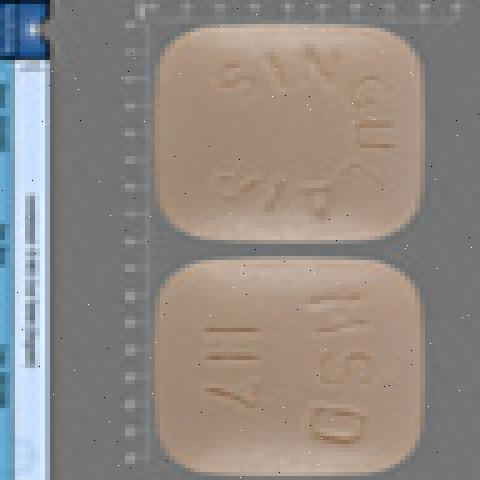Pill: (110, 24, 456, 252), (118, 251, 445, 478)
